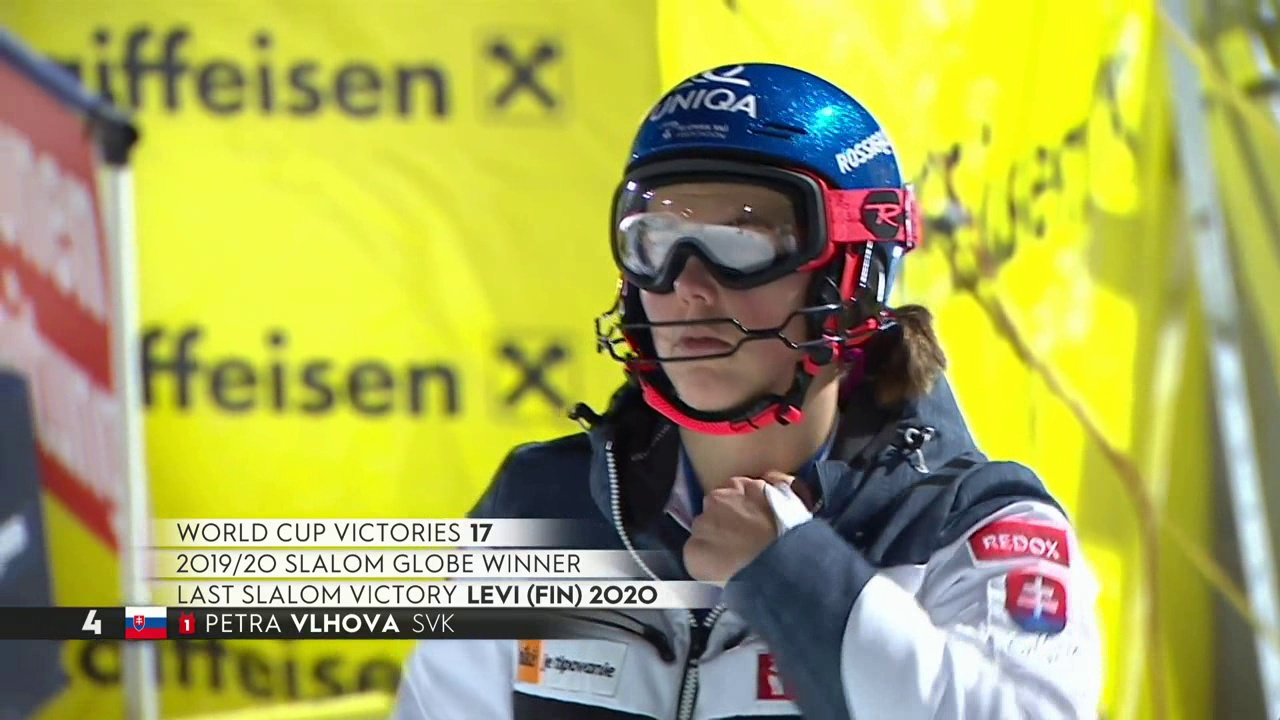raiffeisen: (78, 1, 511, 165), (477, 17, 567, 127)
